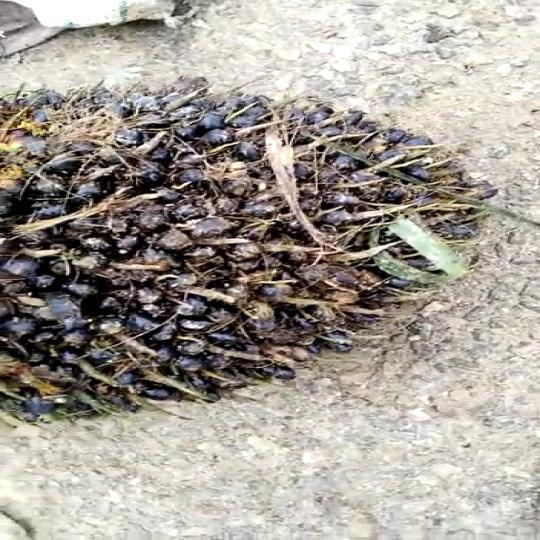mentah: (0, 74, 526, 423)
